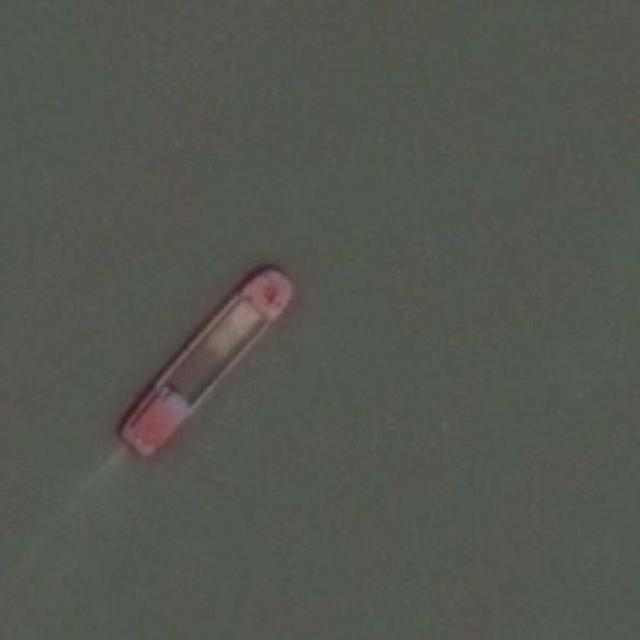ship: (118, 263, 298, 461)
